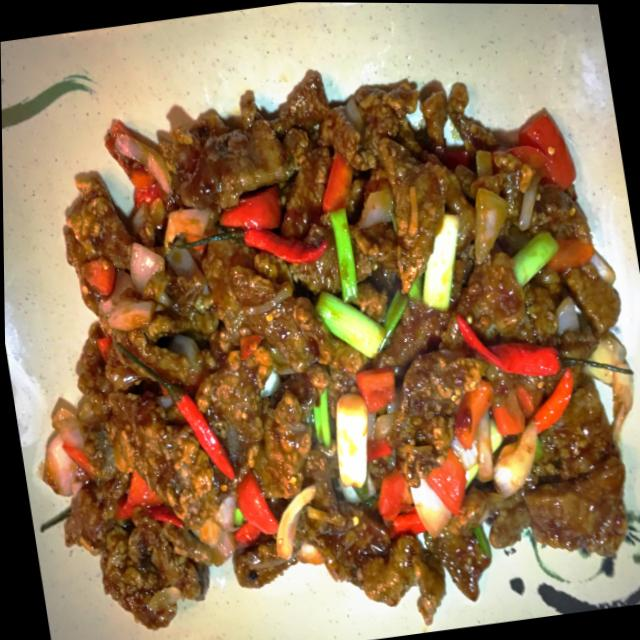Beijing Beef: (1, 56, 640, 640)
